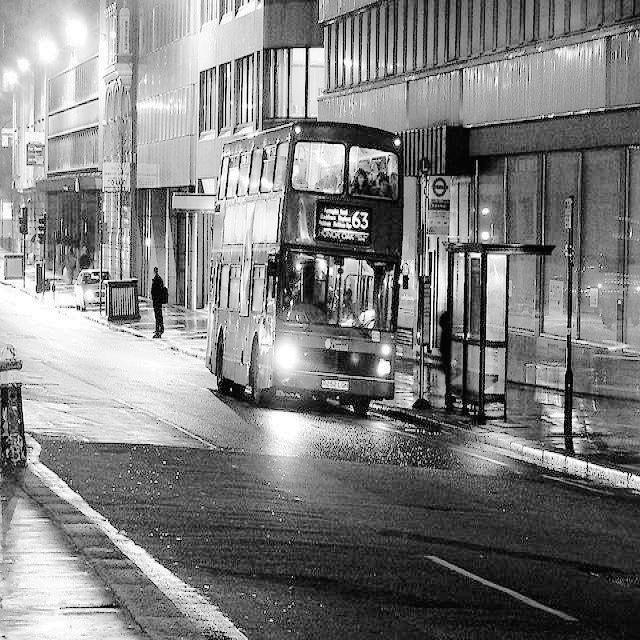Bus: (208, 101, 409, 438)
Car: (72, 230, 110, 345)
